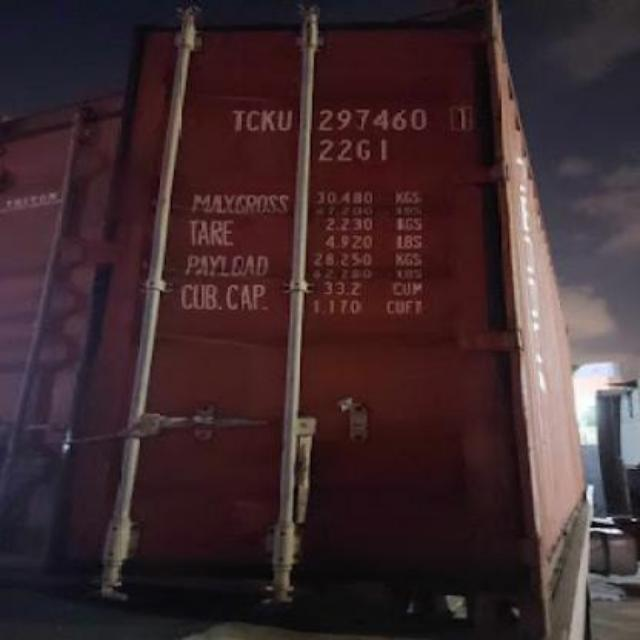0: (410, 102, 434, 138)
1: (452, 103, 476, 133)
2: (316, 103, 334, 133)
4: (372, 105, 390, 135)
6: (392, 103, 410, 133)
7: (352, 107, 378, 137)
9: (338, 106, 354, 136)
C: (246, 108, 262, 136)
K: (259, 106, 275, 136)
T: (229, 106, 245, 134)
U: (276, 106, 296, 134)
